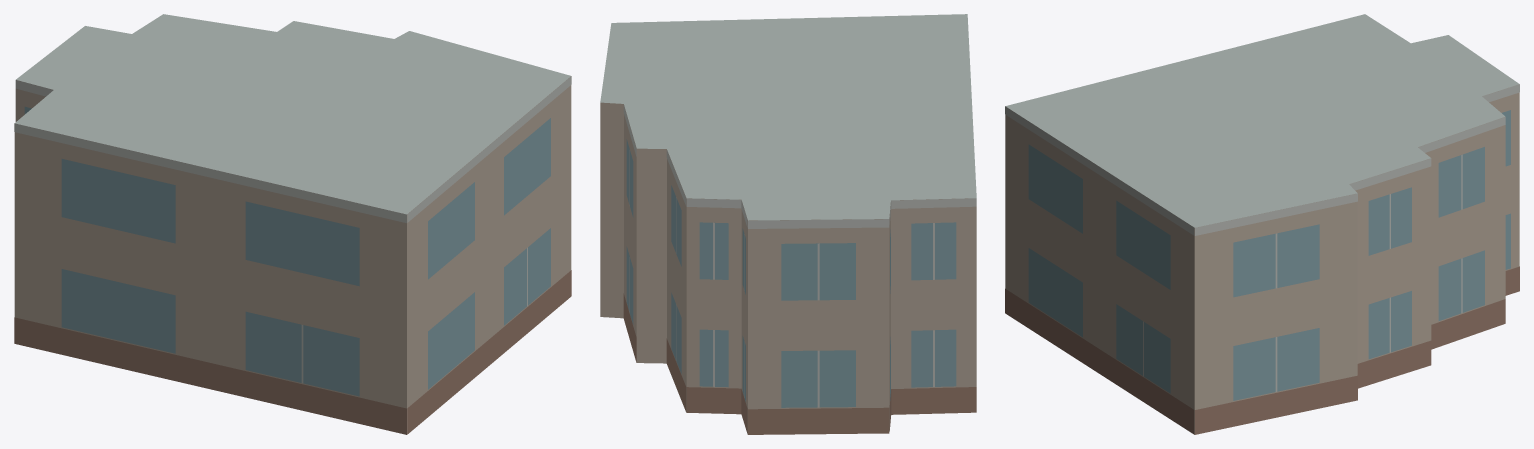
File: survey-upis-32769945.glb
The picture shows the model from 3 angles, left to right: view 1: azimuth 30°, elevation 25°; view 2: azimuth 150°, elevation 25°; view 3: azimuth 270°, elevation 25°; orthographic projection. The views are drawn at different scales.
Visible parts, largest first — view 1: survey-upis-32769945.tmp; view 2: survey-upis-32769945.tmp; view 3: survey-upis-32769945.tmp.
Part boxes in pixels (left/top/right/bottom): survey-upis-32769945.tmp: left=14, top=14, right=571, bottom=434; survey-upis-32769945.tmp: left=600, top=14, right=976, bottom=434; survey-upis-32769945.tmp: left=1005, top=14, right=1519, bottom=434.
Bounding box in the file's own units: 13.52 × 6.1 × 13.75.
